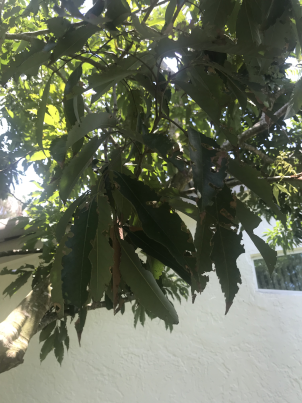weevil: (193, 186, 204, 199)
